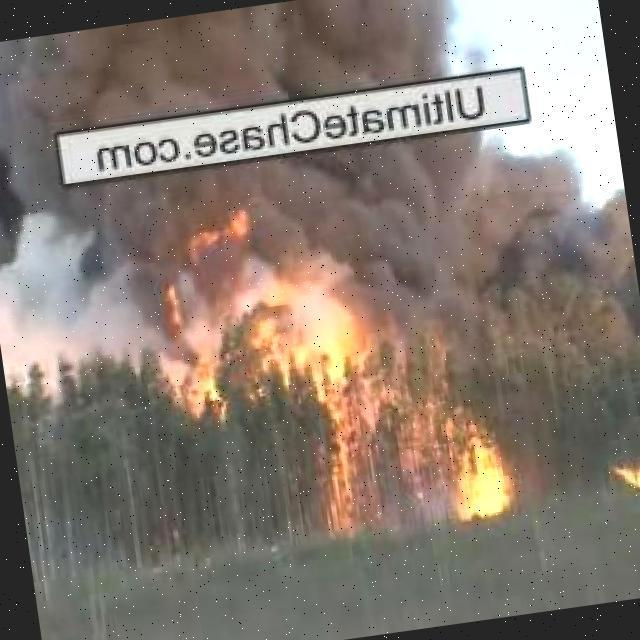Fire: (139, 213, 263, 421), (288, 311, 385, 540), (438, 417, 513, 516), (603, 453, 640, 500)
